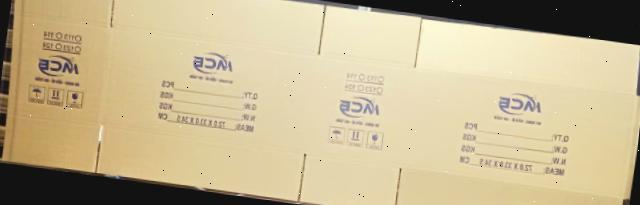box: (4, 0, 640, 205)
